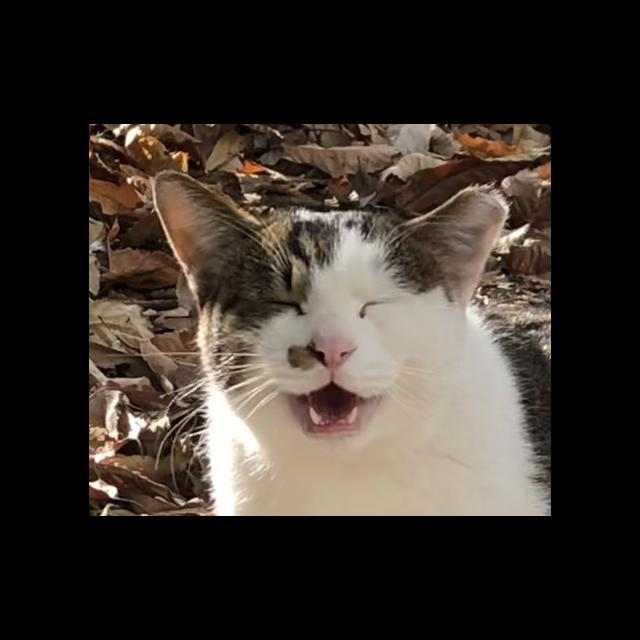animals: (142, 158, 518, 469)
